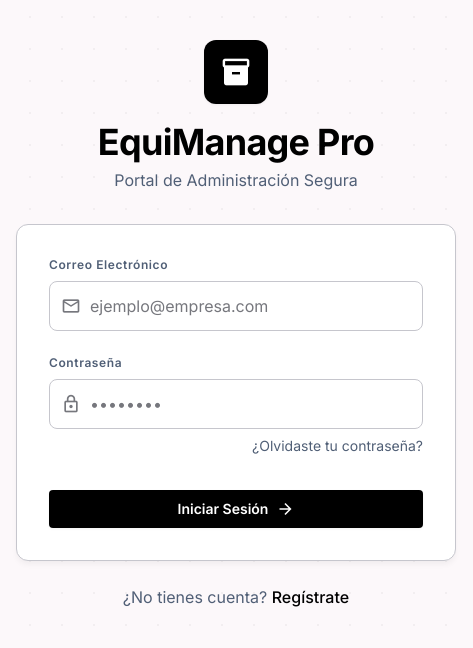
Scenario: LoginPage › muestra un error cuando las credenciales son inválidas
This screenshot has width=473, height=648.
Type "incorrecto@dds.com" into the field labelled "Correo Electrónico". click: coordinates (236, 306)
box: [49,280,423,330]
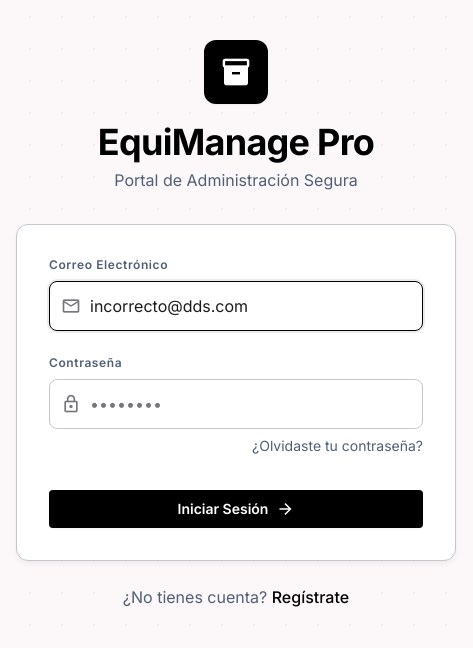
Type "claveMala" into the password field labelled "Contraseña". click: coordinates (236, 404)
box: [49,378,423,428]
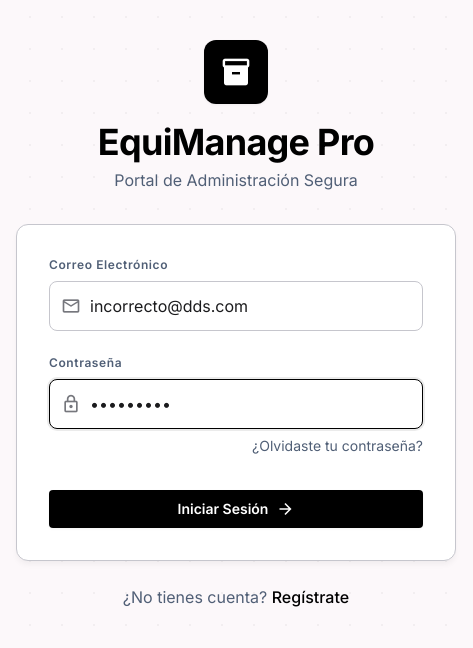
Click the button "Iniciar Sesión". click: coordinates (236, 508)
box: [49,490,423,528]
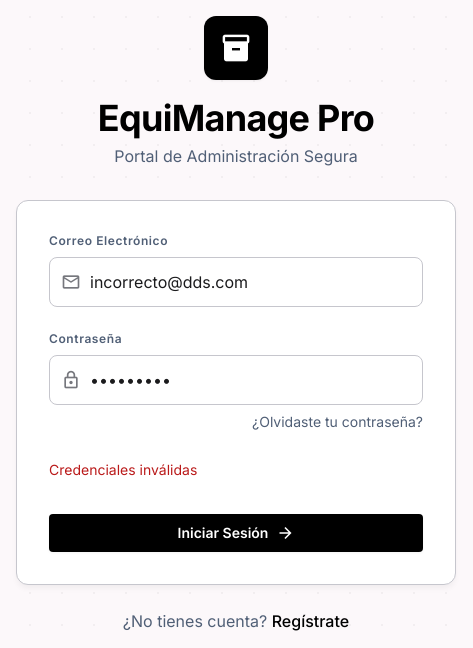
Expected: the text "Credenciales inválidas" is shown, [49,460,197,478]
